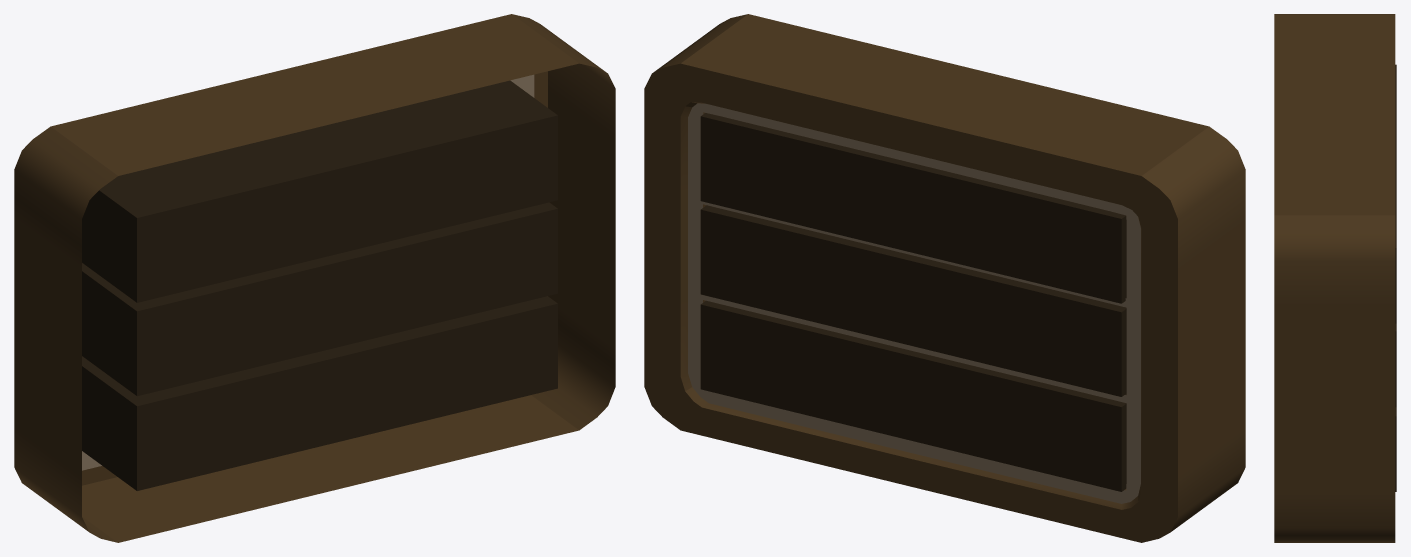
The model's file is Prop_SC_Wall_th1.FBX.
The picture shows the model from 3 angles, left to right: view 1: azimuth 30°, elevation 25°; view 2: azimuth 150°, elevation 25°; view 3: azimuth 270°, elevation 25°; orthographic projection. The views are drawn at different scales.
Visible parts, largest first — view 1: Prop_SC_Wall_th05, Prop_SC_Wall_th02, Prop_SC_Wall_th04, Prop_SC_Wall_th03; view 2: Prop_SC_Wall_th05, Prop_SC_Wall_th03, Prop_SC_Wall_th04, Prop_SC_Wall_th02, Prop_SC_Wall_th01; view 3: Prop_SC_Wall_th05, Prop_SC_Wall_th02, Prop_SC_Wall_th03, Prop_SC_Wall_th04.
Boxes of the visible parts, box(x1,y1,x2,y2) form: Prop_SC_Wall_th05: box(14, 14, 615, 542); Prop_SC_Wall_th02: box(82, 80, 557, 302); Prop_SC_Wall_th04: box(82, 296, 557, 490); Prop_SC_Wall_th03: box(82, 202, 557, 396); Prop_SC_Wall_th05: box(644, 14, 1245, 542); Prop_SC_Wall_th03: box(700, 205, 1126, 396); Prop_SC_Wall_th04: box(700, 300, 1126, 491); Prop_SC_Wall_th02: box(700, 113, 1126, 303); Prop_SC_Wall_th01: box(688, 103, 1140, 503); Prop_SC_Wall_th05: box(1274, 14, 1395, 542); Prop_SC_Wall_th02: box(1395, 64, 1396, 323); Prop_SC_Wall_th03: box(1395, 323, 1396, 407); Prop_SC_Wall_th04: box(1395, 407, 1396, 491).
Size of the model in its own units: 37.26 by 24.49 by 8.29.
